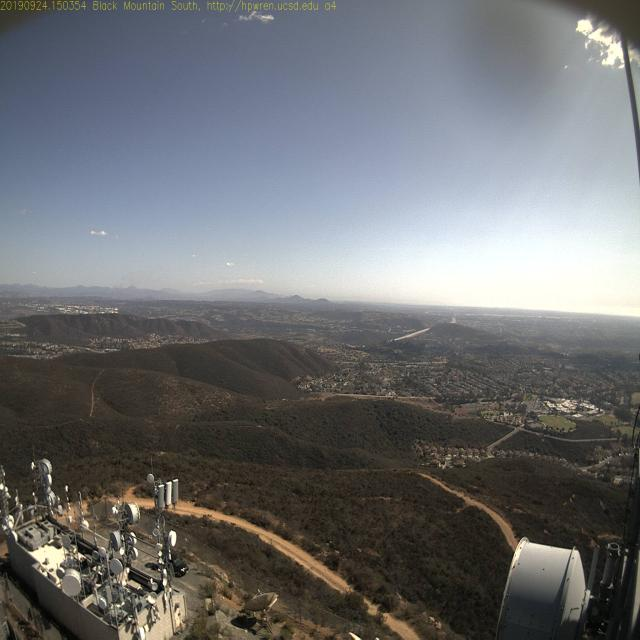smoke: (101, 282, 122, 302)
